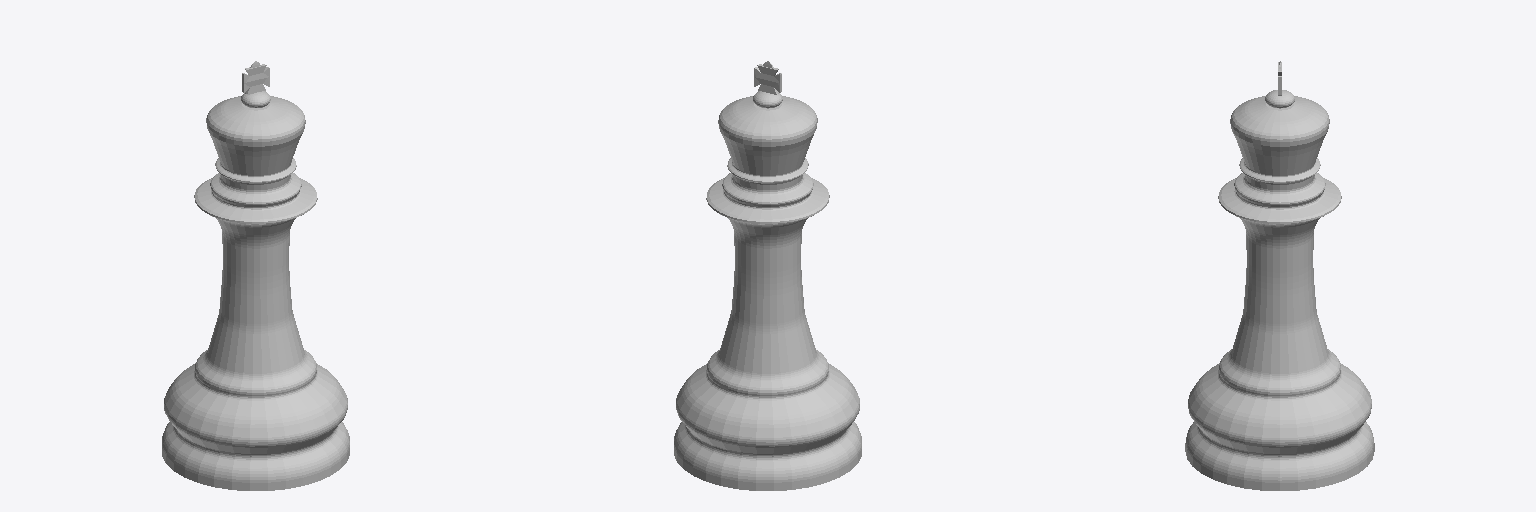
File: black_king.obj
3 views of the same model, side by side, from view 1: azimuth 30°, elevation 25°; view 2: azimuth 150°, elevation 25°; view 3: azimuth 270°, elevation 25° (orthographic).
Parts seen in each view (by area): view 1: Dark_King; view 2: Dark_King; view 3: Dark_King.
Part boxes in pixels (bbox=[...]): Dark_King: bbox=[162, 61, 349, 490]; Dark_King: bbox=[674, 61, 861, 490]; Dark_King: bbox=[1185, 61, 1374, 490].
Bounding box in the file's own units: 1.4 × 3.18 × 1.4.